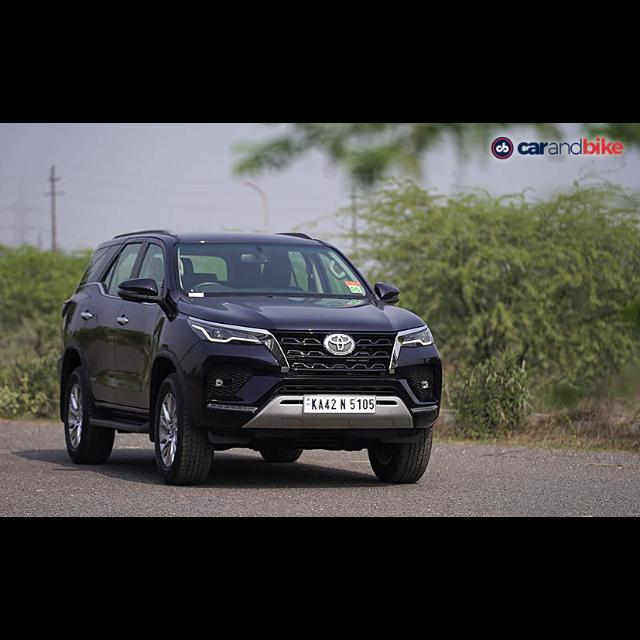number-plate: (303, 396, 377, 413)
vehicles: (55, 227, 448, 486)
